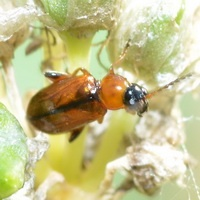insect: (27, 40, 199, 141), (27, 40, 191, 141), (128, 133, 180, 194)
